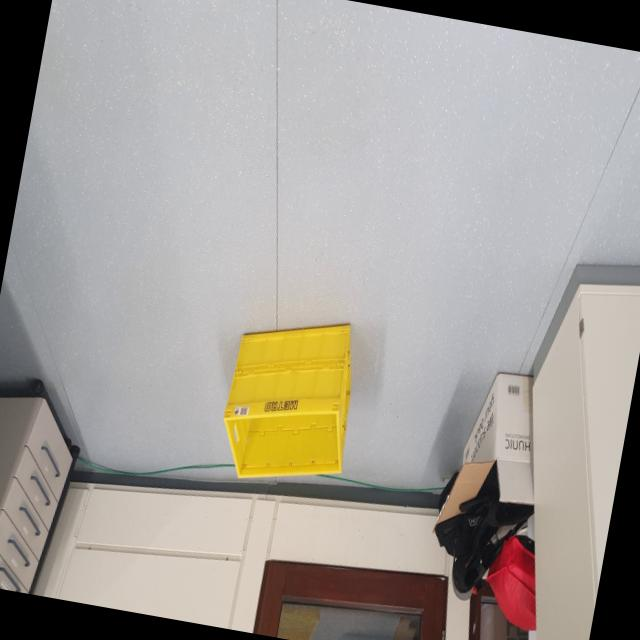box: (205, 294, 376, 502)
